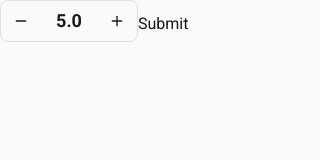
Test: score input validation › keeps out-of-range 11 visible and blocks submit after blur
The image size is (320, 160).
Replace the text in the field named "Score value" with "11" at (69, 21), box [41,7,97,35]
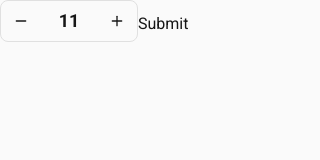
Leave the field named "Score value", box [41,7,97,35]
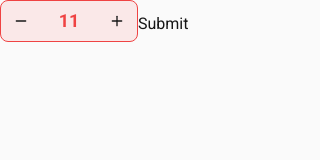
Expected: the button "Submit" is disabled, [138,12,188,36]
Replace the text in the field named "Score value" with "7" at (69, 21), box [41,7,97,35]
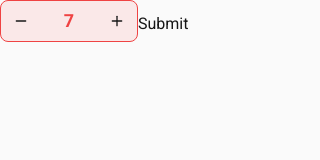
Leave the field named "Score value", box [41,7,97,35]
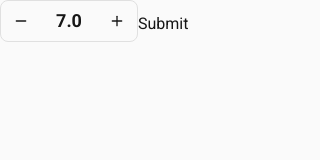
Expected: the button "Submit" is enabled, [138,12,188,36]
Now the field named "Score value" holds "7.0", box [41,7,97,35]
